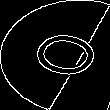O_SE: (10, 25, 100, 85)
